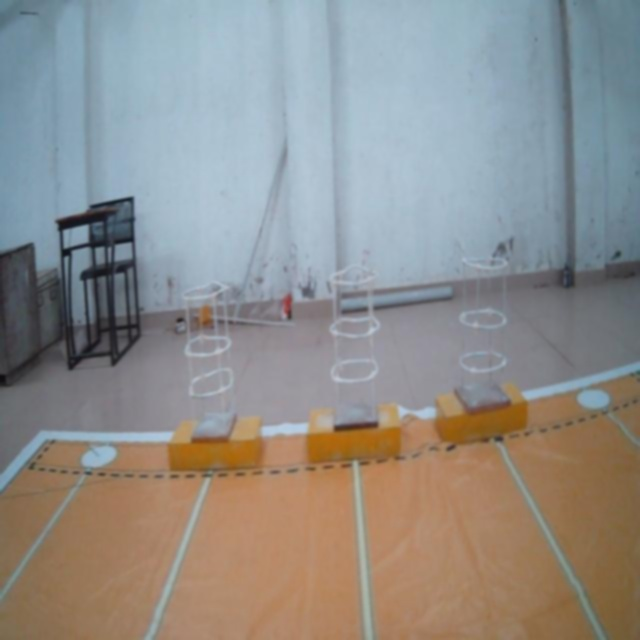silo: (329, 262, 383, 432), (184, 281, 240, 440), (460, 254, 512, 407)
